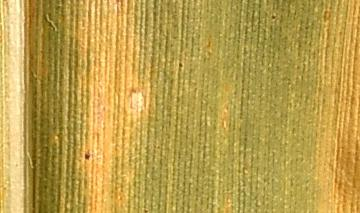tarspot: (83, 148, 91, 161), (269, 14, 277, 21), (177, 61, 184, 69), (141, 208, 149, 213)
